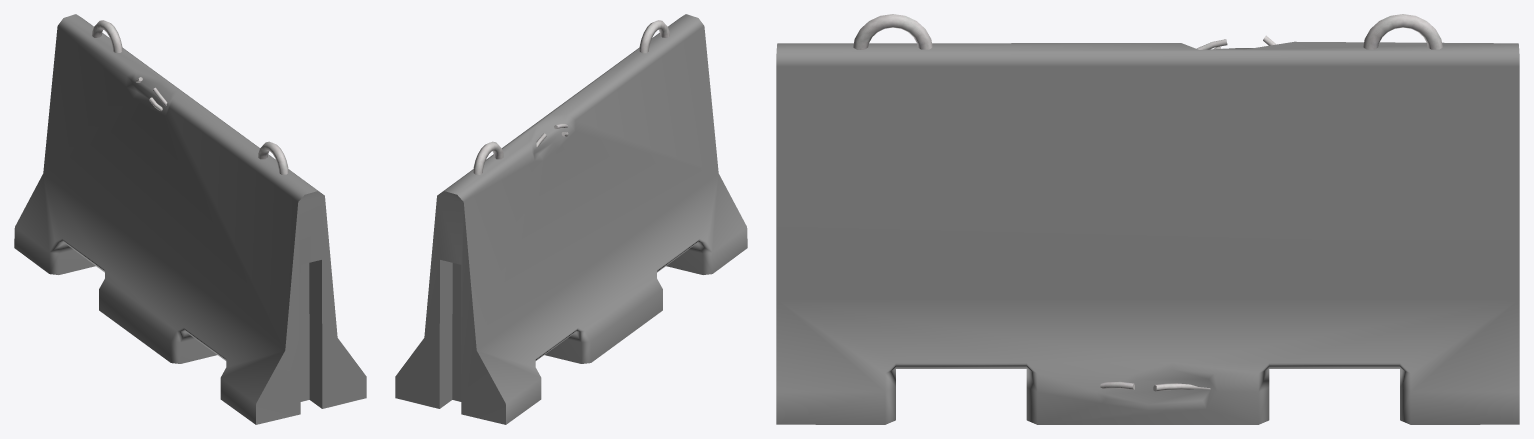
Rendered from ConcreteBarrier_SM.FBX.
3 renders of one model, left to right at view 1: azimuth 30°, elevation 25°; view 2: azimuth 150°, elevation 25°; view 3: azimuth 270°, elevation 25°, orthographic. The views are drawn at different scales.
Parts seen in each view (by area): view 1: ConcreteBarrier_LP, ConcreteBarrierRods_SM; view 2: ConcreteBarrier_LP, ConcreteBarrierRods_SM; view 3: ConcreteBarrier_LP, ConcreteBarrierRods_SM.
Boxes of the visible parts, x1,y1,x2,y2 form: ConcreteBarrier_LP: [14, 14, 366, 424]; ConcreteBarrierRods_SM: [92, 20, 288, 174]; ConcreteBarrier_LP: [395, 14, 747, 424]; ConcreteBarrierRods_SM: [473, 20, 669, 174]; ConcreteBarrier_LP: [776, 41, 1519, 424]; ConcreteBarrierRods_SM: [853, 14, 1442, 391].
Size of the model in its own units: 56.36 by 110 by 200.
Materials: 2 (1 with a texture image).
